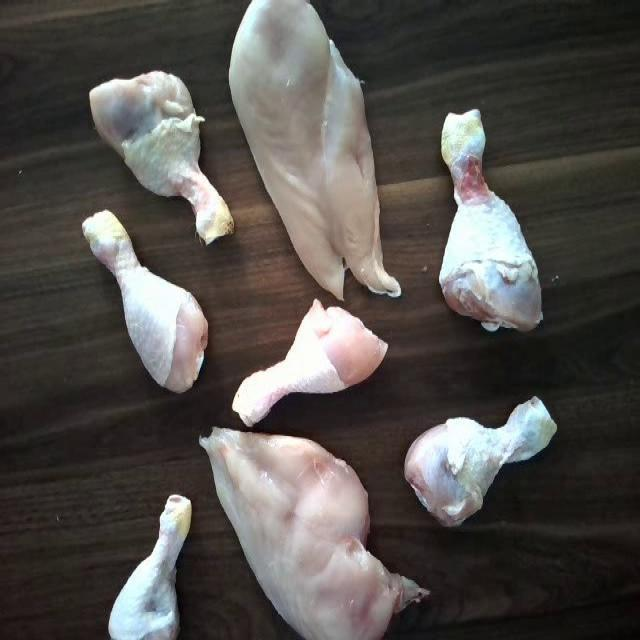breast: (223, 0, 400, 296), (203, 421, 398, 640)
leg: (424, 106, 552, 336), (80, 206, 214, 401), (398, 386, 566, 534), (100, 70, 232, 251), (223, 296, 395, 430), (110, 484, 196, 640)
